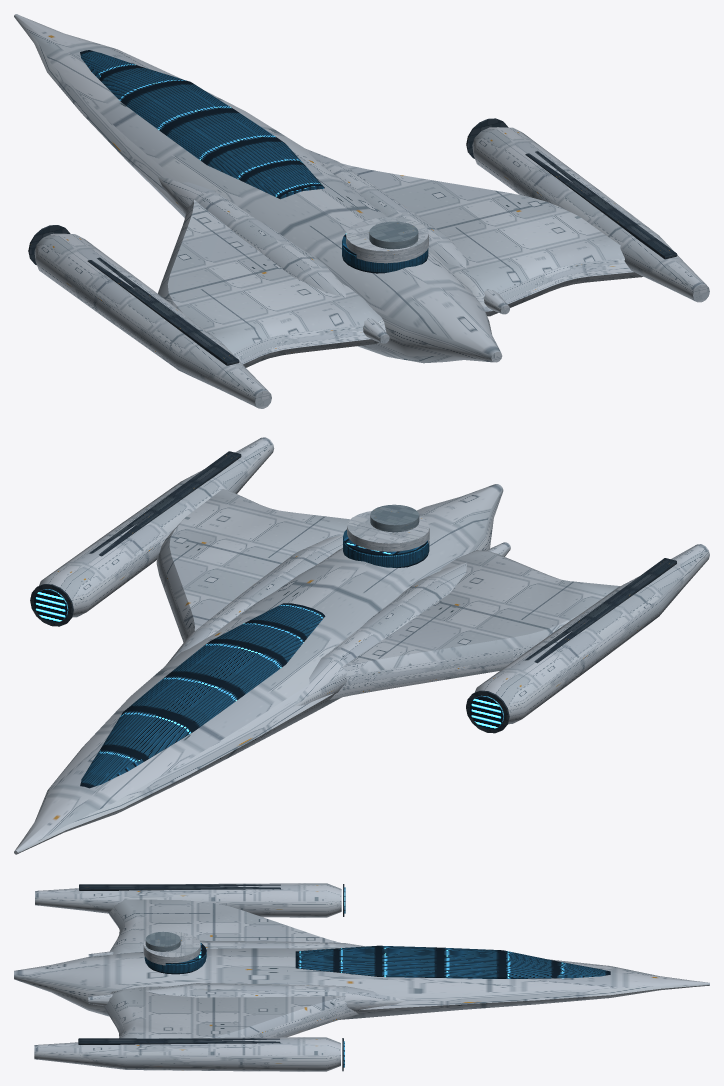
The model's file is alliance_courier.glb.
3 views of the same model, one above another, from view 1: azimuth 30°, elevation 25°; view 2: azimuth 150°, elevation 25°; view 3: azimuth 270°, elevation 25° (orthographic). The views are drawn at different scales.
Parts seen in each view (by area): view 1: alliance_courier_lod_source; view 2: alliance_courier_lod_source; view 3: alliance_courier_lod_source.
Part boxes in pixels (box(x1,y1,x2,y2)): alliance_courier_lod_source: box(14, 14, 709, 408); alliance_courier_lod_source: box(14, 437, 709, 854); alliance_courier_lod_source: box(14, 883, 709, 1071).
Size of the model in its own units: 0.4446 by 0.1014 by 0.7569.
Materials: 1 (1 with a texture image).
